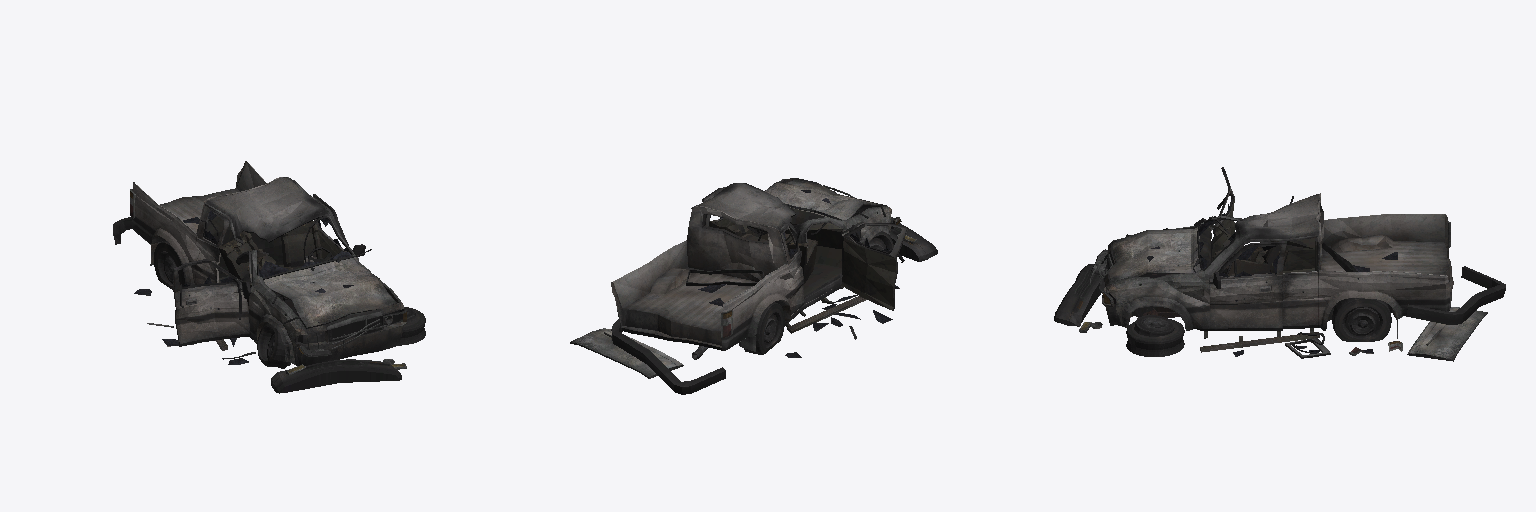
3 renders of one model, left to right at view 1: azimuth 30°, elevation 25°; view 2: azimuth 150°, elevation 25°; view 3: azimuth 270°, elevation 25°, orthographic.
Visible parts, largest first — view 1: SM_TC5car05_des; view 2: SM_TC5car05_des; view 3: SM_TC5car05_des.
Part boxes in pixels (x1,y1,x2,y2): SM_TC5car05_des: (113,161,425,393); SM_TC5car05_des: (570,178,937,394); SM_TC5car05_des: (1054,167,1505,361).
Size of the model in its own units: 428 by 195 by 754.
2 materials, 2 textured.